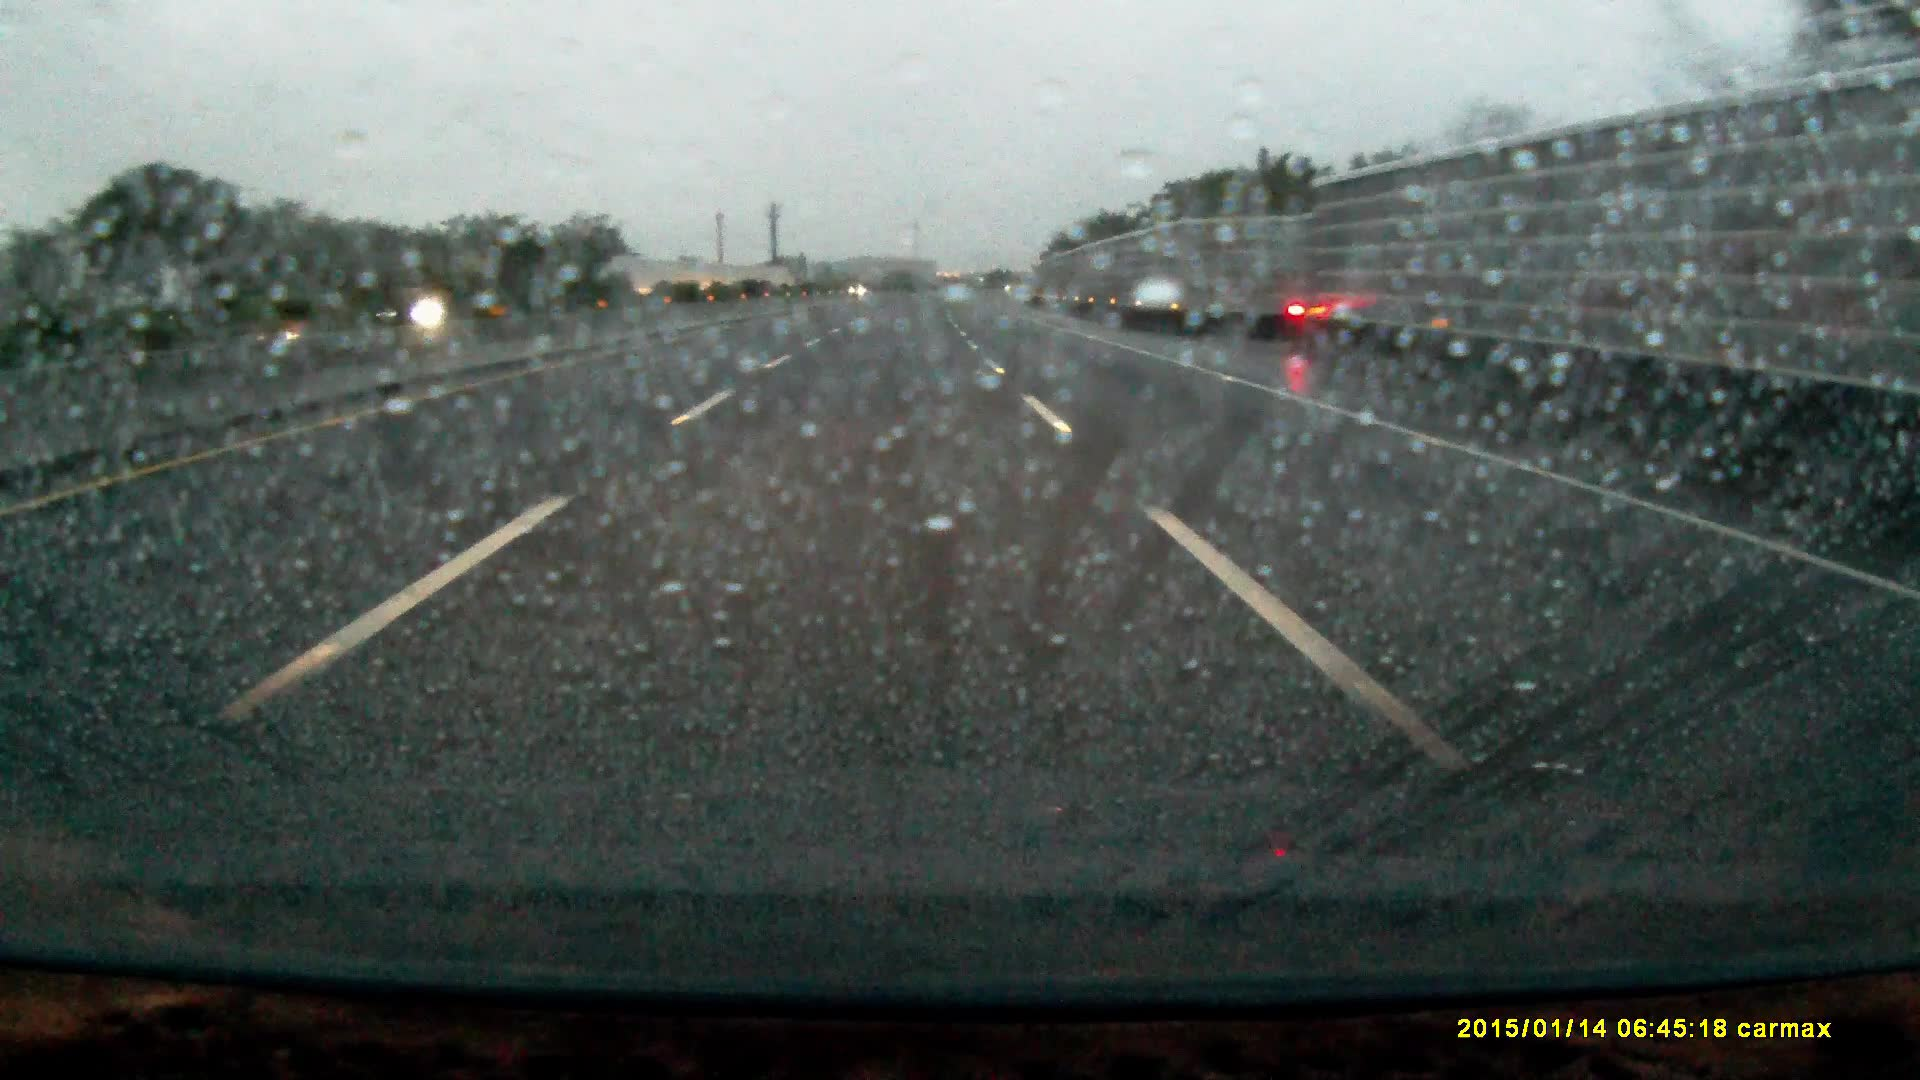vehicle: (356, 291, 442, 332)
